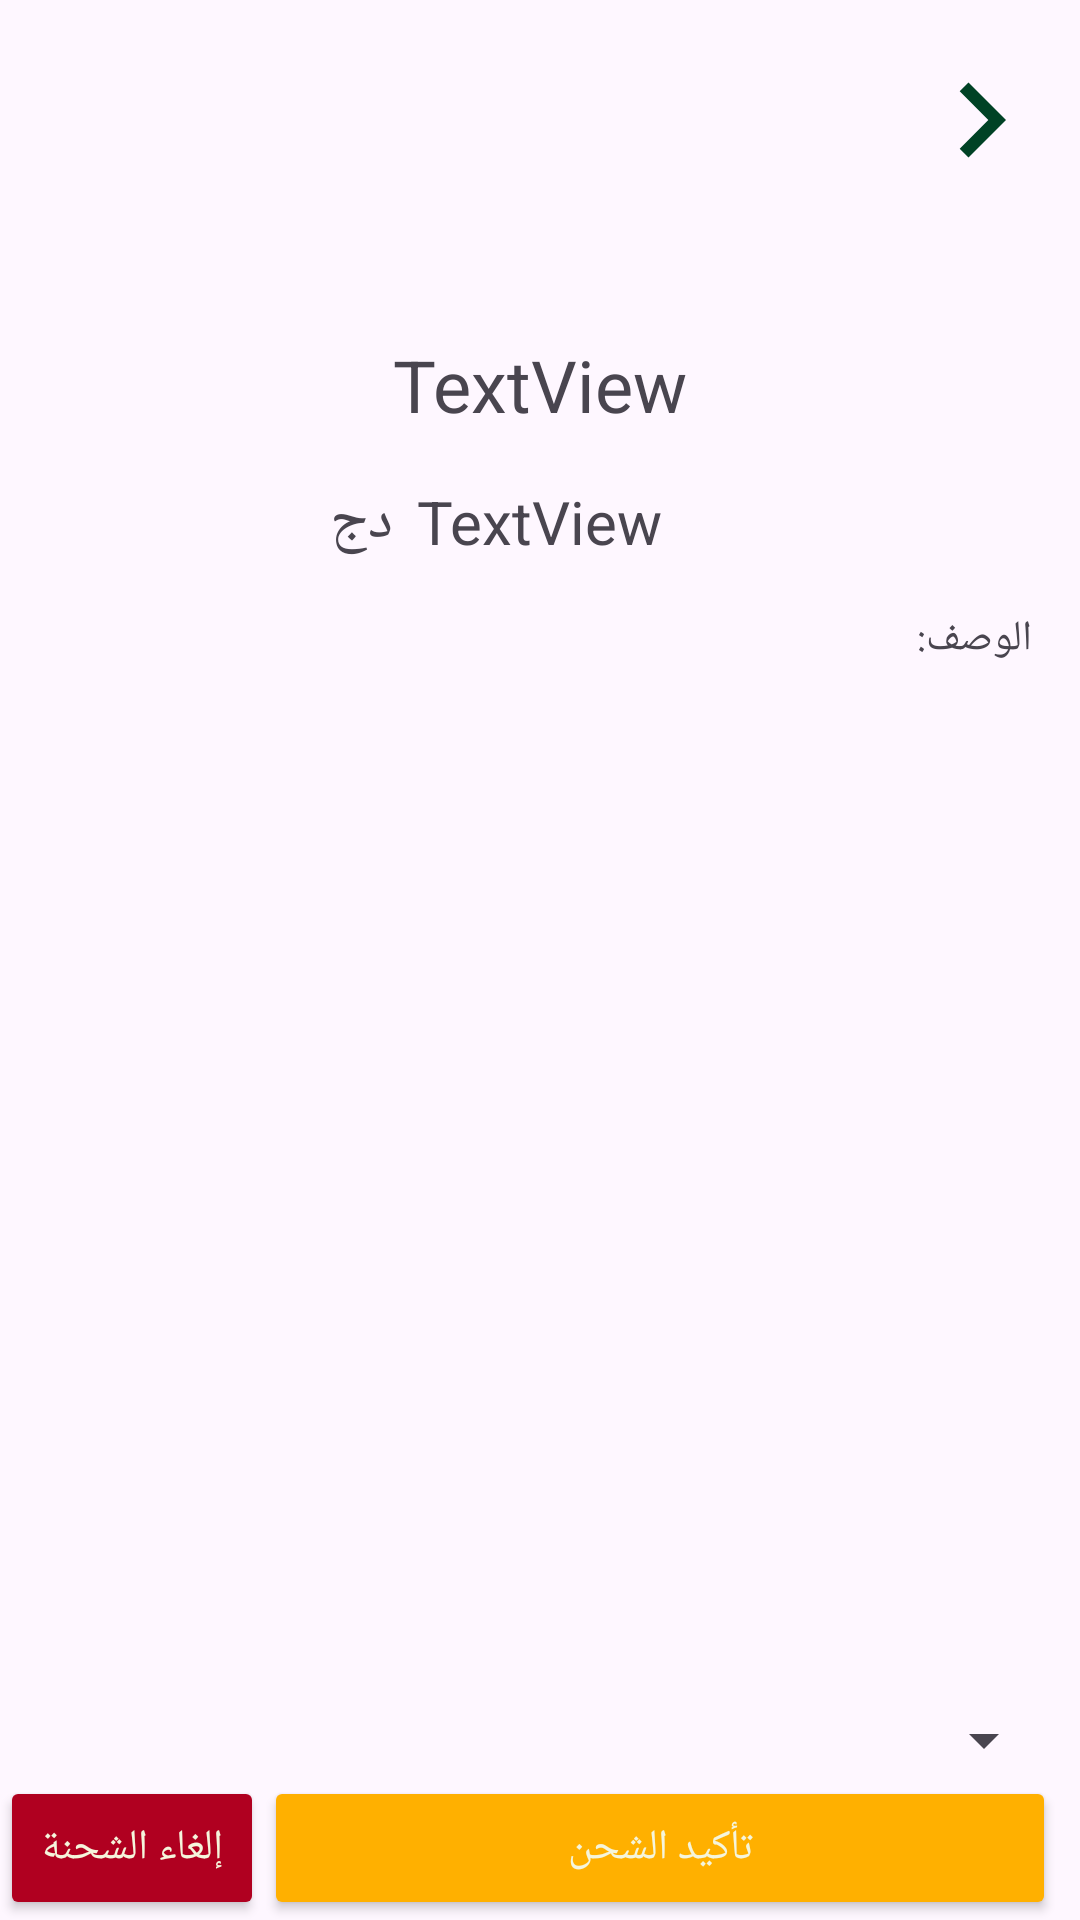

Where icons sit on this 1080 × 1920 app screen, as (x1, y1, x2, y2):
chevron right: (960, 82, 1006, 158)
